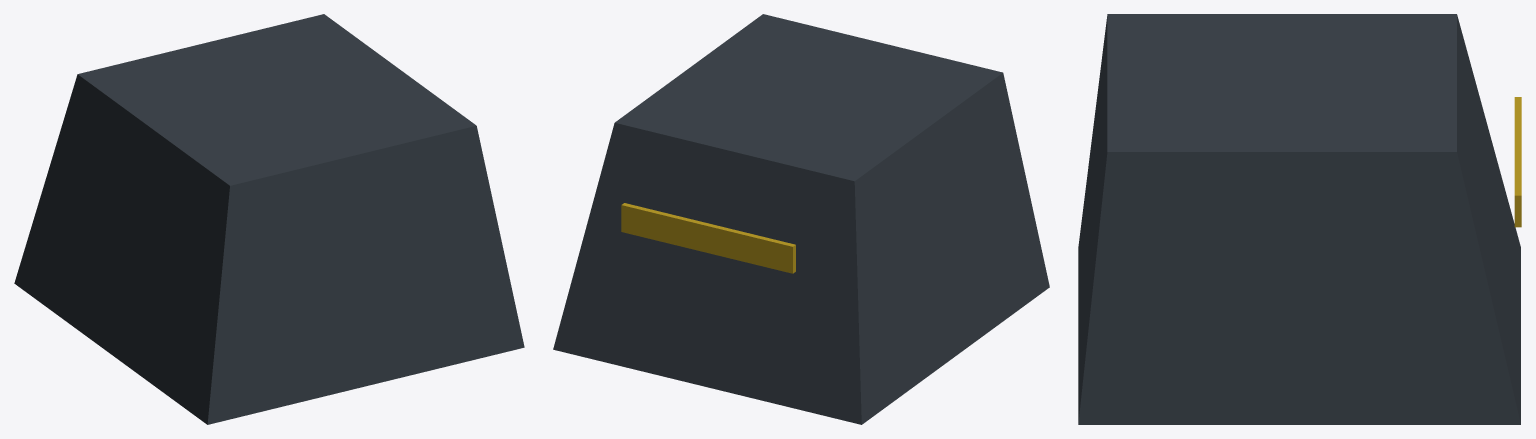
File: bp10_caps.obj
3 renders of one model, left to right at view 1: azimuth 30°, elevation 25°; view 2: azimuth 150°, elevation 25°; view 3: azimuth 270°, elevation 25°, orthographic. The views are drawn at different scales.
Visible parts, largest first — view 1: bp10_caps; view 2: bp10_caps; view 3: bp10_caps.
Boxes of the visible parts, bbox=[...] form: bp10_caps: bbox=[14, 14, 524, 424]; bp10_caps: bbox=[553, 14, 1049, 424]; bp10_caps: bbox=[1078, 14, 1521, 424].
Bounding box in the file's own units: 0.72 × 0.48 × 0.761.
